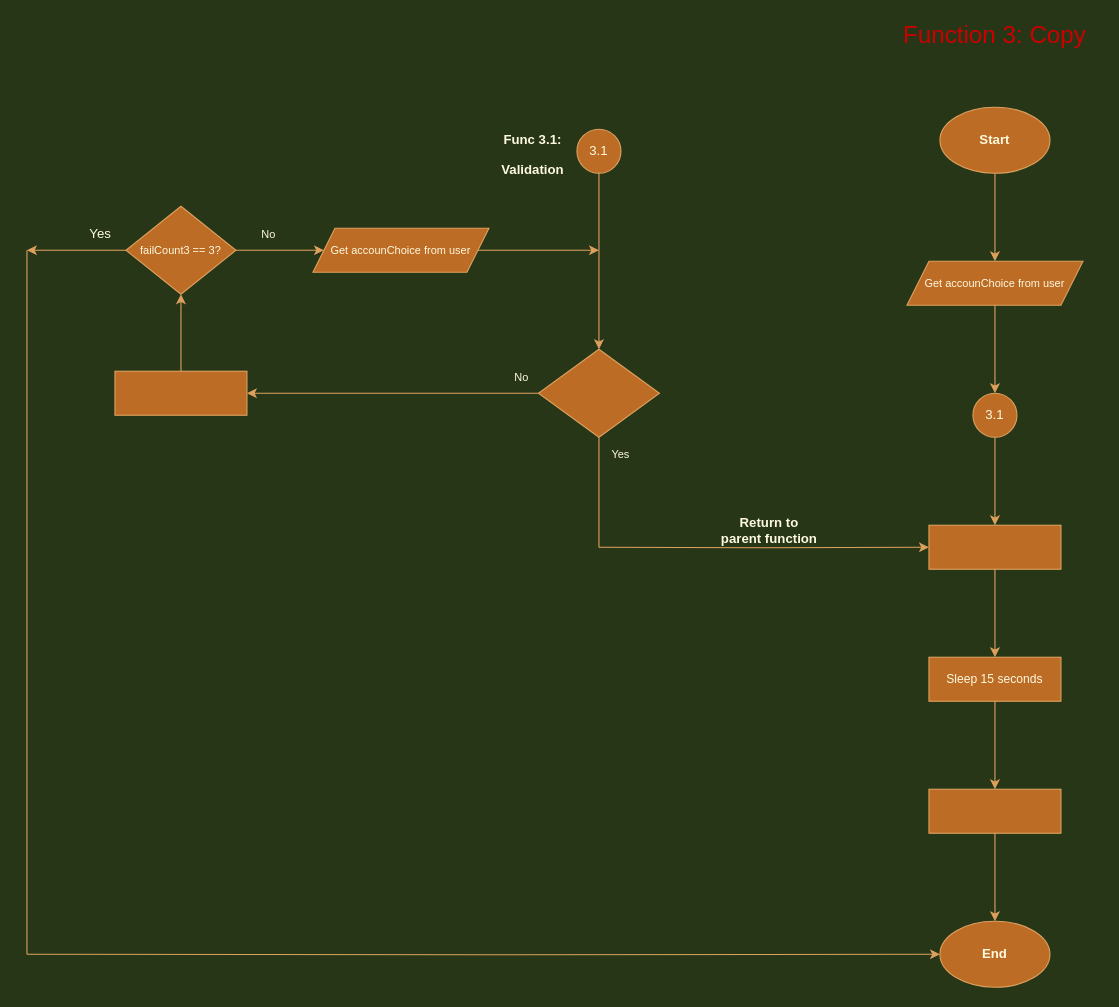
The diagram is 1119 pixels wide and 1007 high, and some of its shapes have lost their labels. The shapes that lost their labels are listed below. From the top down, each one's box as (x1, y1, x2, y2) in pixels, then its label:
(114, 370, 247, 415): failCount3 += 1
(537, 348, 659, 437): accountChoice stored?
(928, 524, 1061, 569): Send password to cllipboard
(928, 788, 1061, 833): Remove password from clipboard
